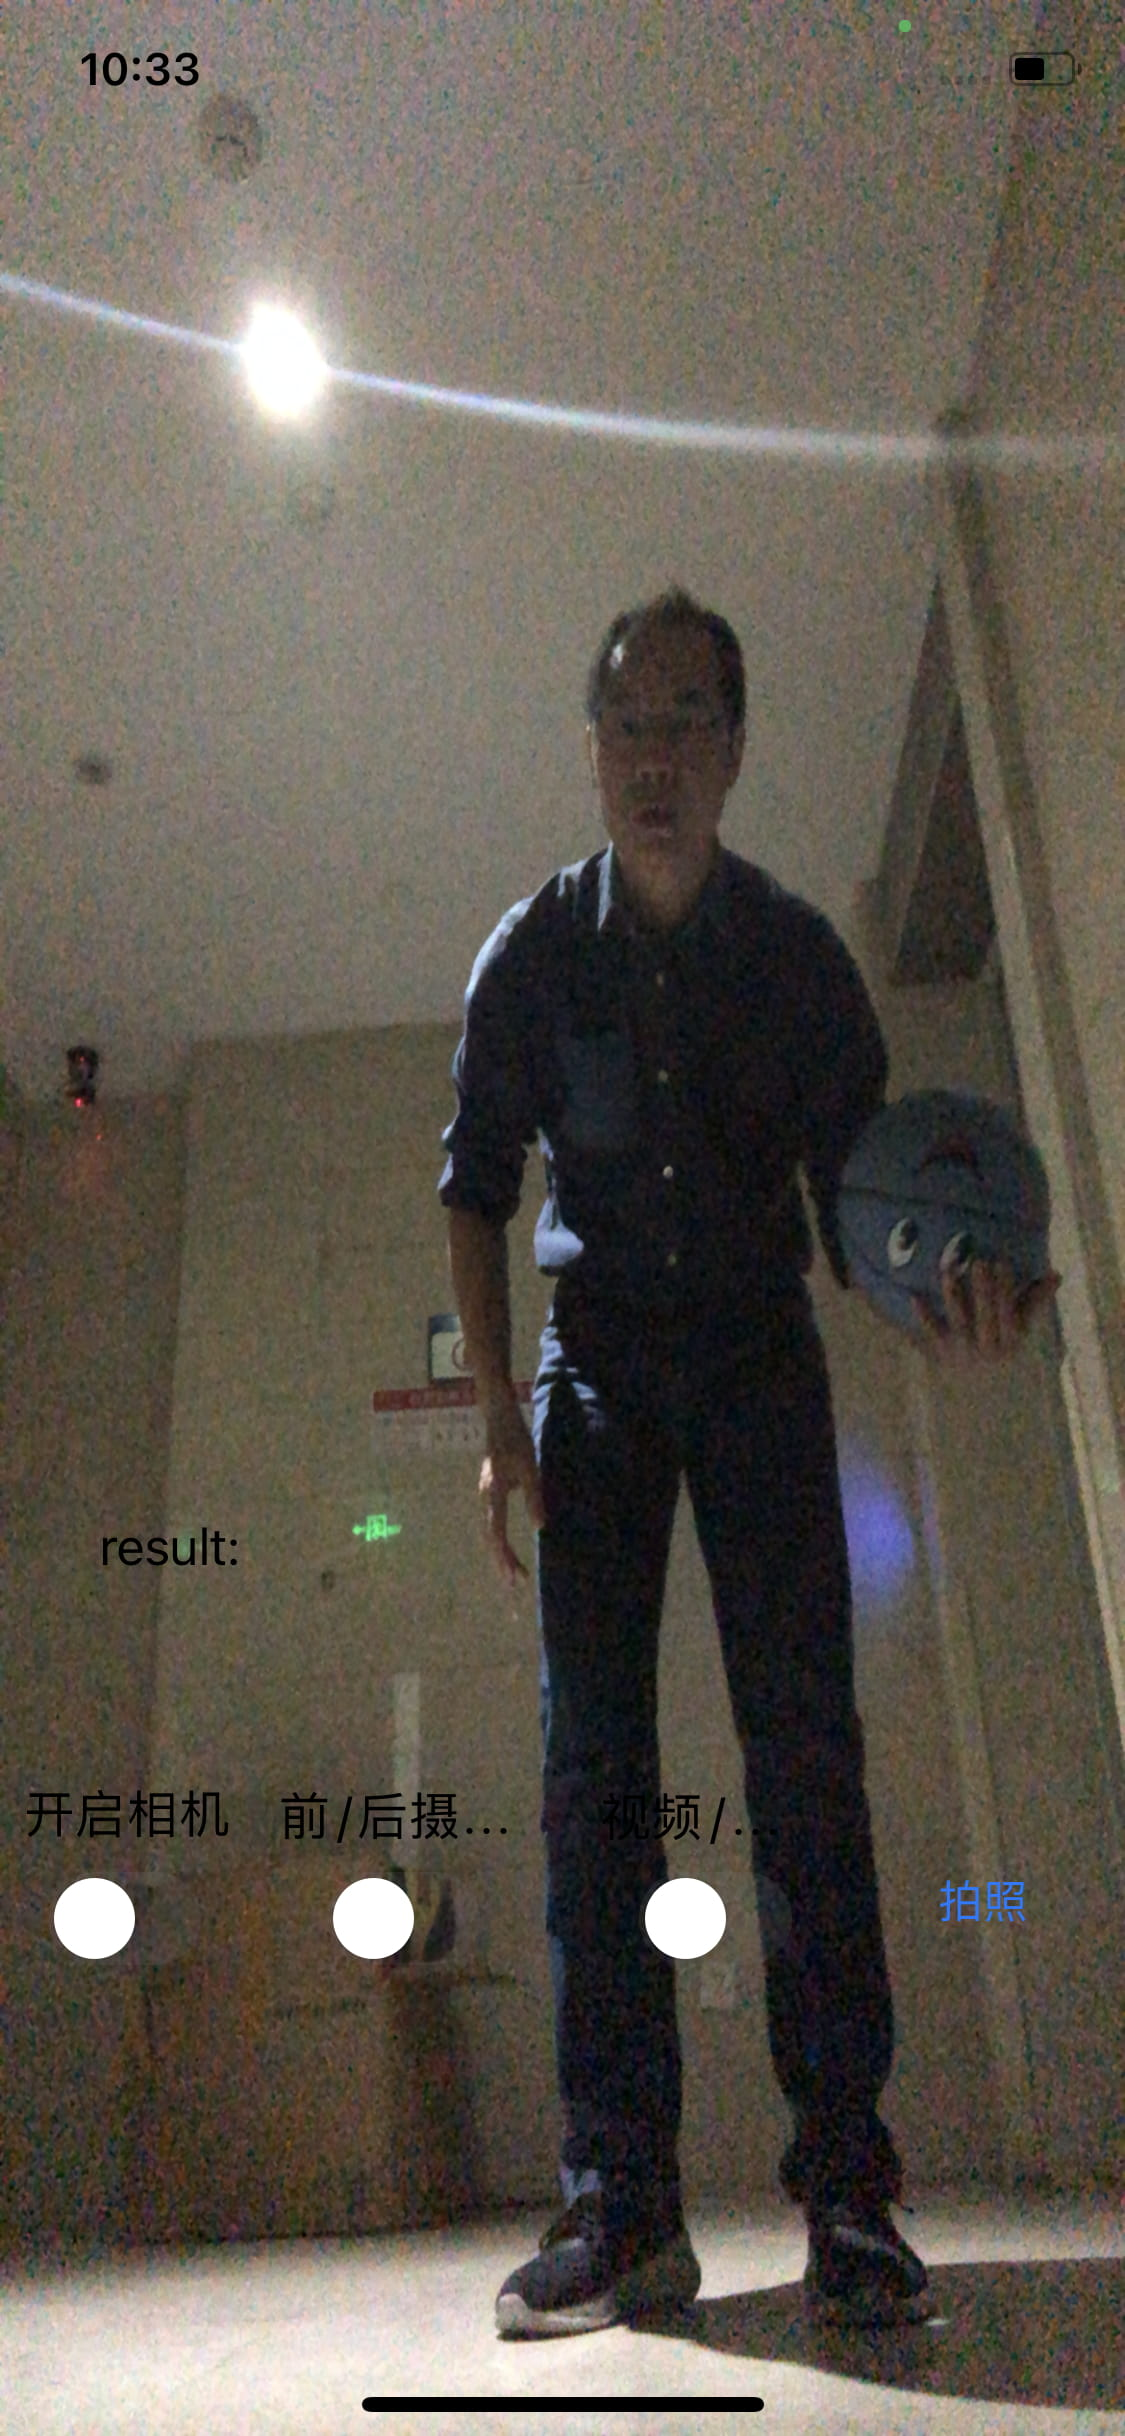ball: (833, 1086, 1050, 1344)
